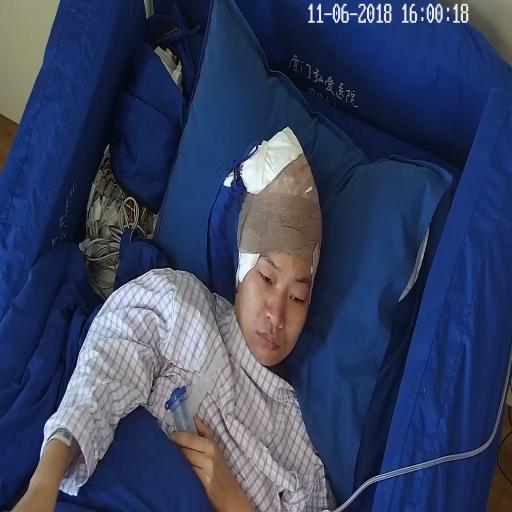Seizure: (228, 133, 326, 371)
